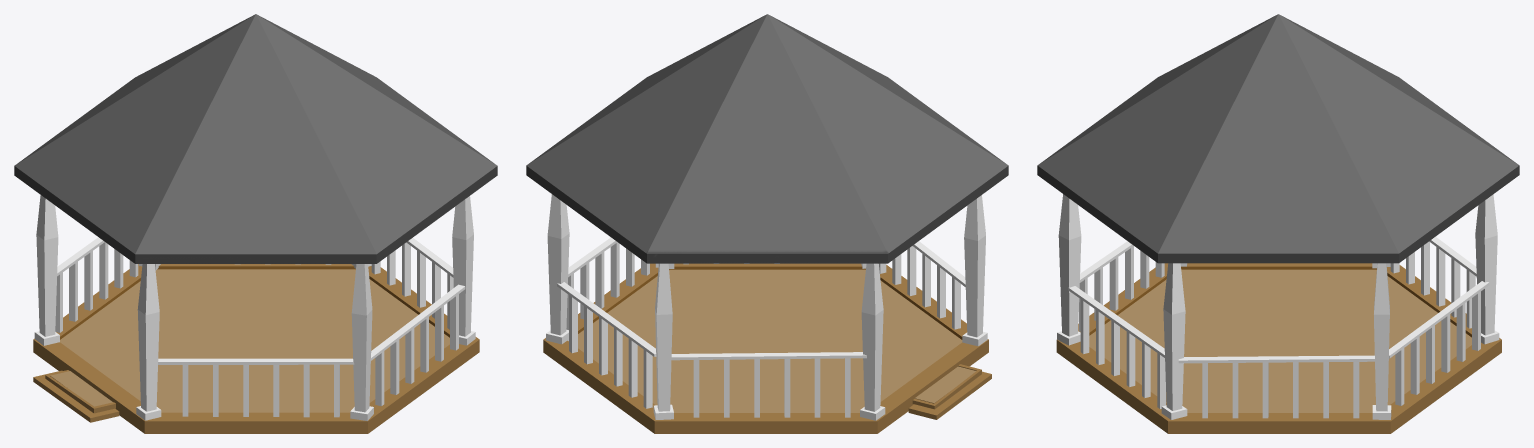
The model's file is newGazebo.fbx.
The picture shows the model from 3 angles, left to right: view 1: azimuth 30°, elevation 25°; view 2: azimuth 150°, elevation 25°; view 3: azimuth 270°, elevation 25°; orthographic projection.
Parts seen in each view (by area): view 1: GAzebo; view 2: GAzebo; view 3: GAzebo.
Part boxes in pixels (left/top/right/bottom): GAzebo: left=14, top=14, right=497, bottom=433; GAzebo: left=526, top=14, right=1008, bottom=433; GAzebo: left=1037, top=14, right=1519, bottom=433.
Size of the model in its own units: 580 by 499 by 644.
